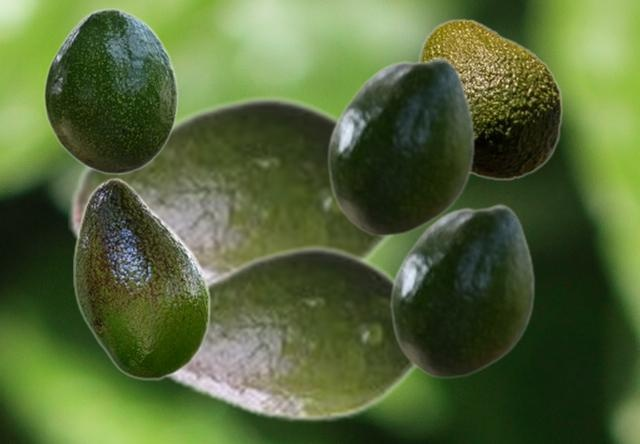avocado: (68, 94, 399, 278), (160, 244, 420, 423), (73, 177, 210, 379), (326, 56, 474, 236), (389, 203, 534, 378), (416, 18, 562, 180), (43, 8, 177, 174)
